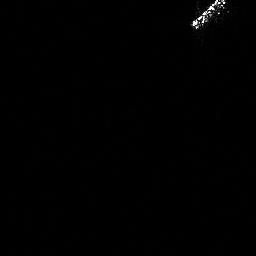ship: (187, 1, 228, 31)
